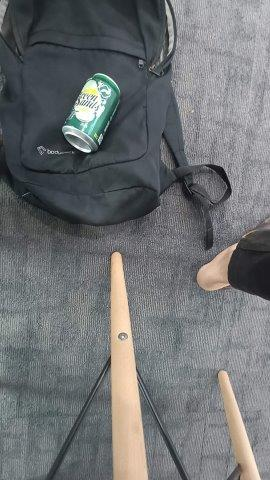kaleng: (62, 73, 120, 154)
